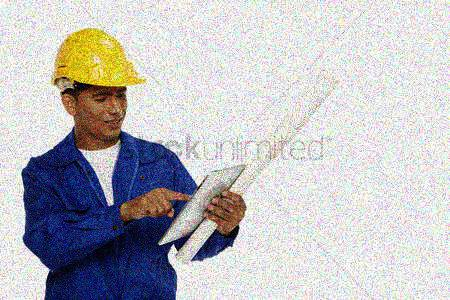helmet: (50, 27, 147, 138)
